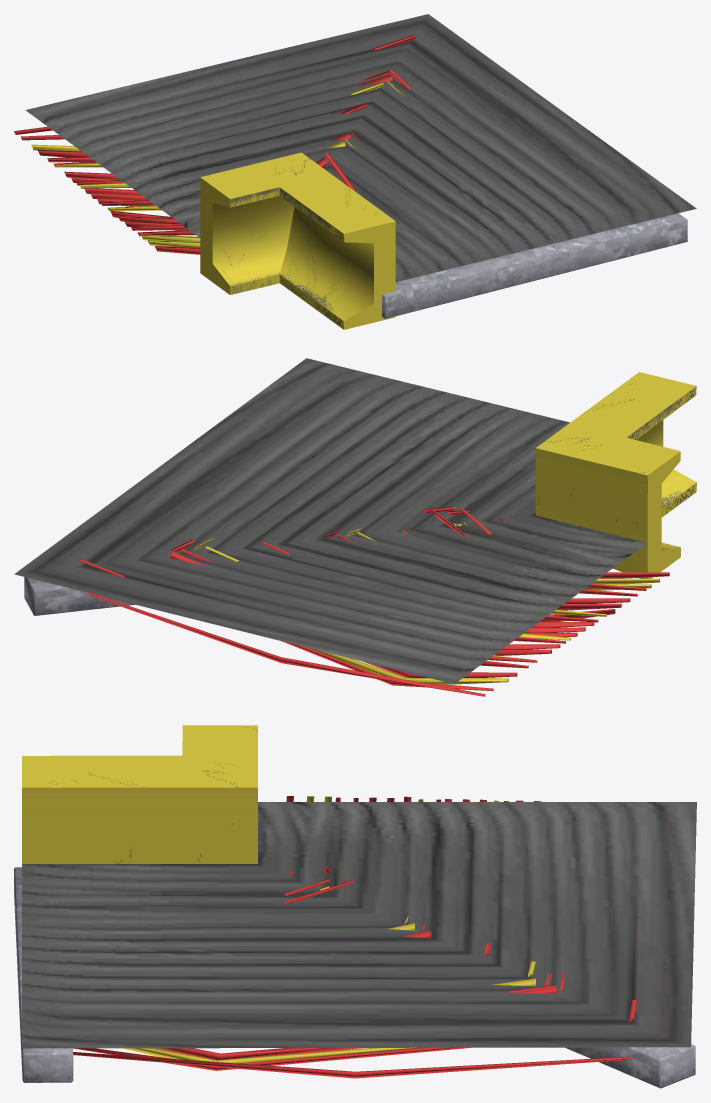
File: mountedCables_corner02.dae
The picture shows the model from 3 angles, top to bottom: view 1: azimuth 30°, elevation 25°; view 2: azimuth 150°, elevation 25°; view 3: azimuth 270°, elevation 25°; orthographic projection. The views are drawn at different scales.
Visible parts, largest first — view 1: polySurface80; view 2: polySurface80; view 3: polySurface80.
Boxes of the visible parts, x1,y1,x2,y2 form: polySurface80: (14,14,696,329); polySurface80: (14,358,696,696); polySurface80: (14,725,696,1088).
Bounding box in the file's own units: 2.66 × 0.6536 × 2.88.
Materials: 1 (1 with a texture image).
